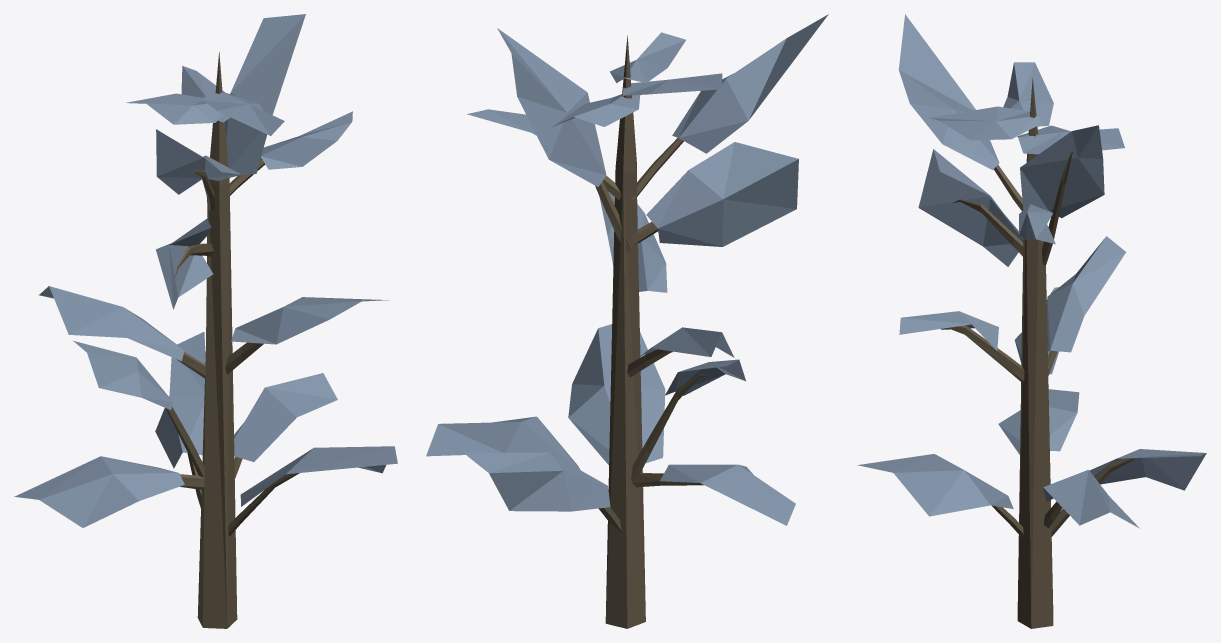
File: Blue_Spruce_4_4.fbx
The picture shows the model from 3 angles, left to right: view 1: azimuth 30°, elevation 25°; view 2: azimuth 150°, elevation 25°; view 3: azimuth 270°, elevation 25°; orthographic projection. The views are drawn at different scales.
Parts seen in each view (by area): view 1: Spurce_4_4; view 2: Spurce_4_4; view 3: Spurce_4_4.
Boxes of the visible parts, bbox=[...] form: Spurce_4_4: bbox=[14, 14, 397, 628]; Spurce_4_4: bbox=[426, 14, 828, 628]; Spurce_4_4: bbox=[857, 14, 1206, 628].
Bounding box in the file's own units: 233 × 392 × 227.
